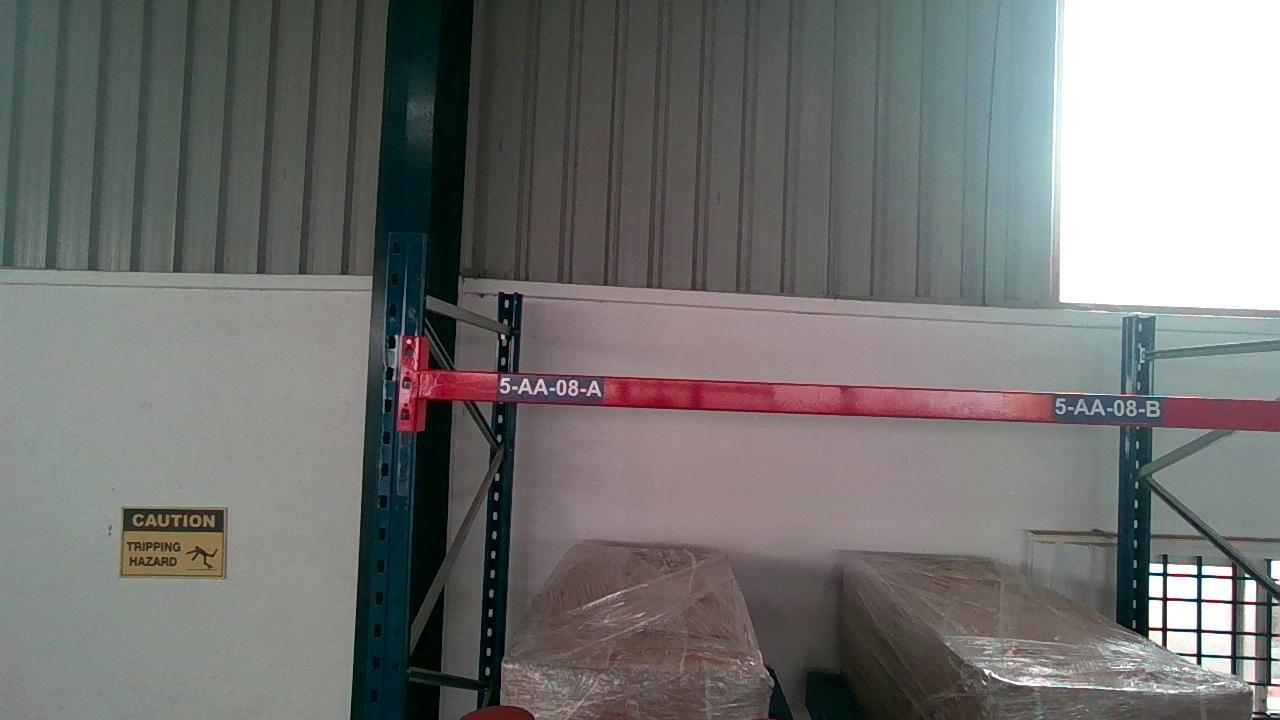h_rack: (418, 375, 1280, 429)
